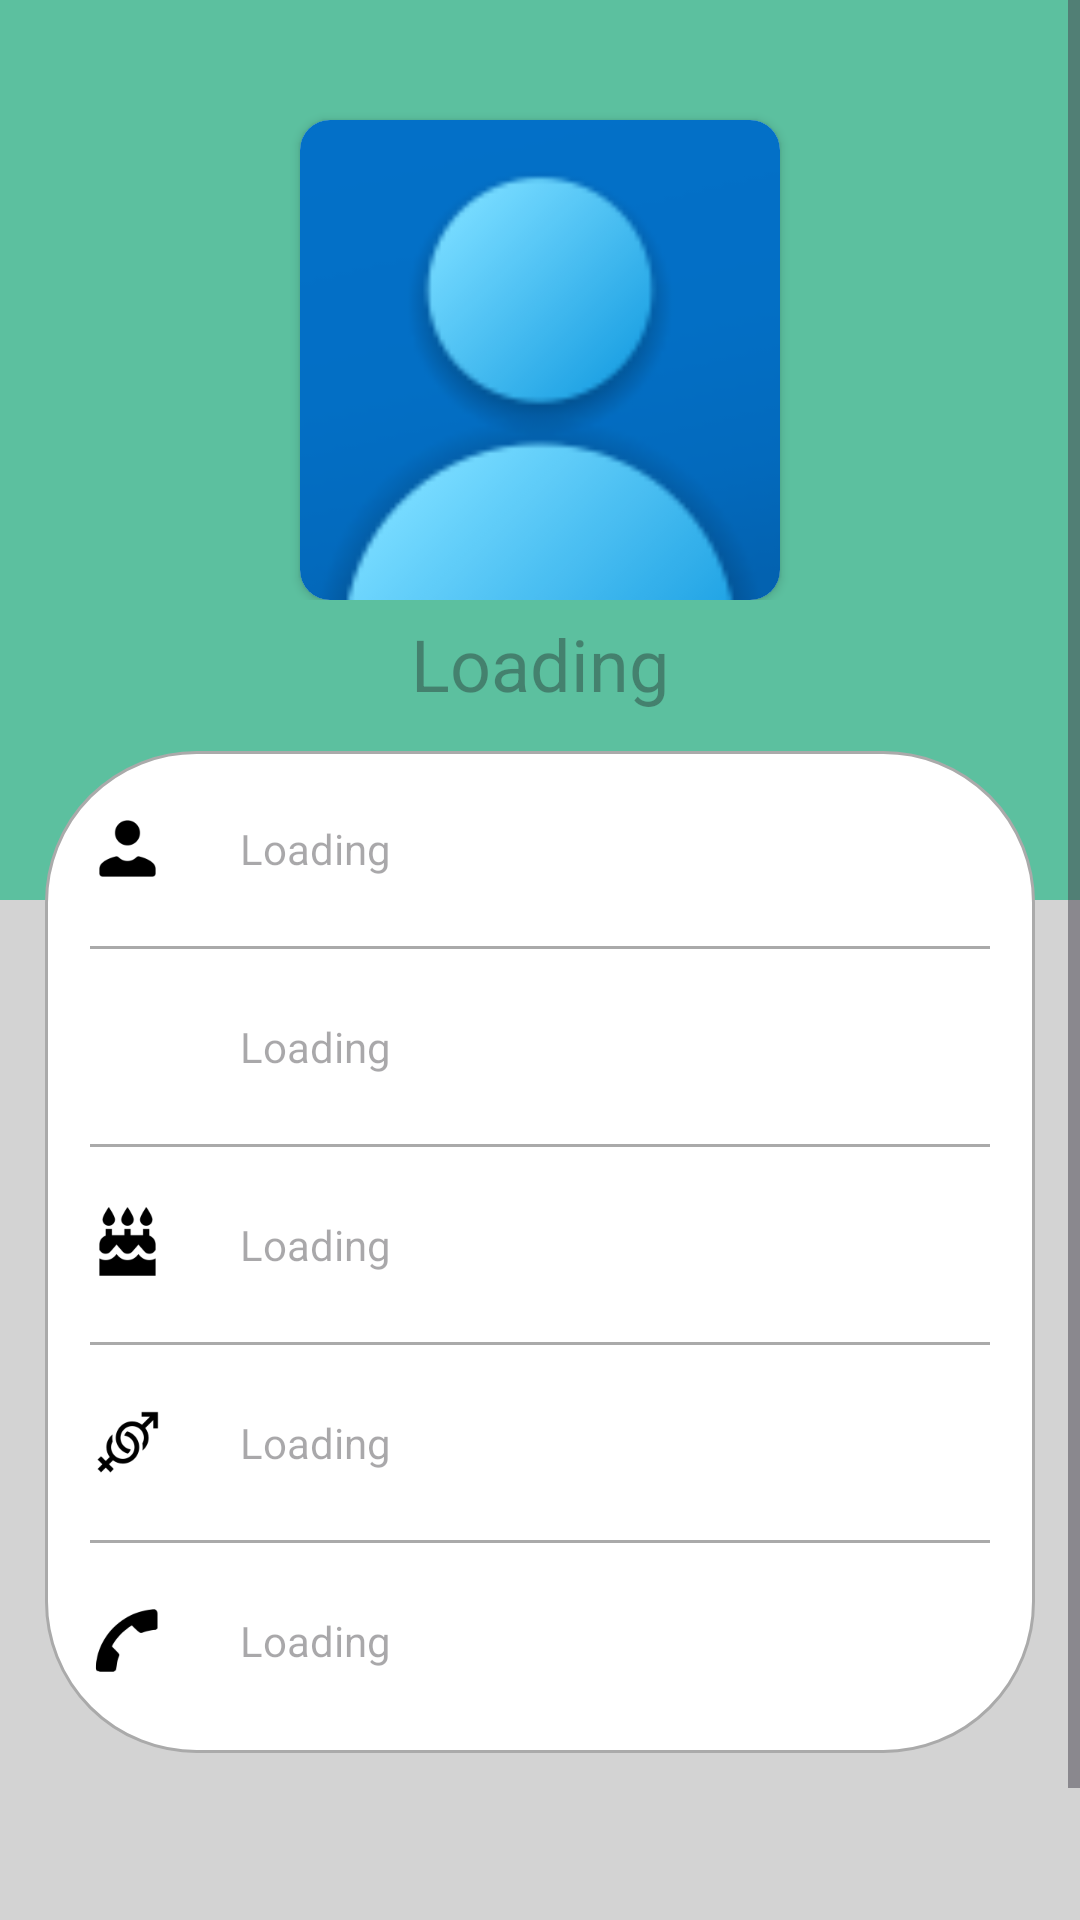

Where to tap for icons on this 1080px×1920px app screen, as [x,y]:
Dob: [127,1241]
Gender: [128,1442]
Mobile: [127,1640]
Name: [127,848]
